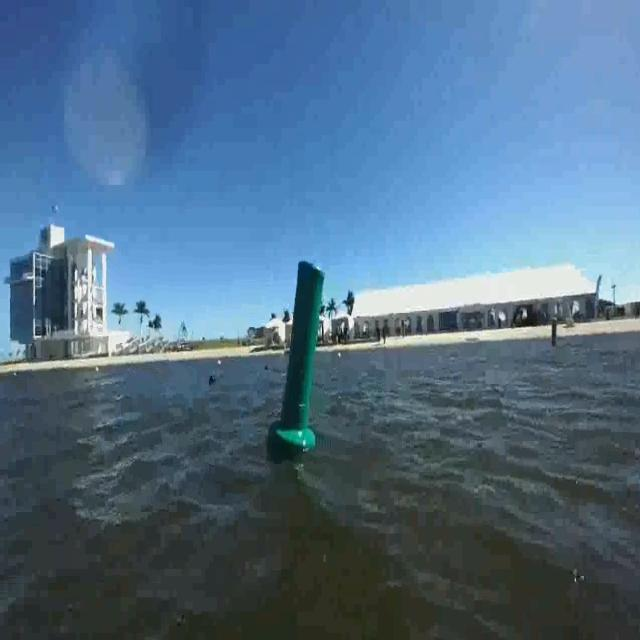green-column-buoy: (272, 260, 324, 453)
